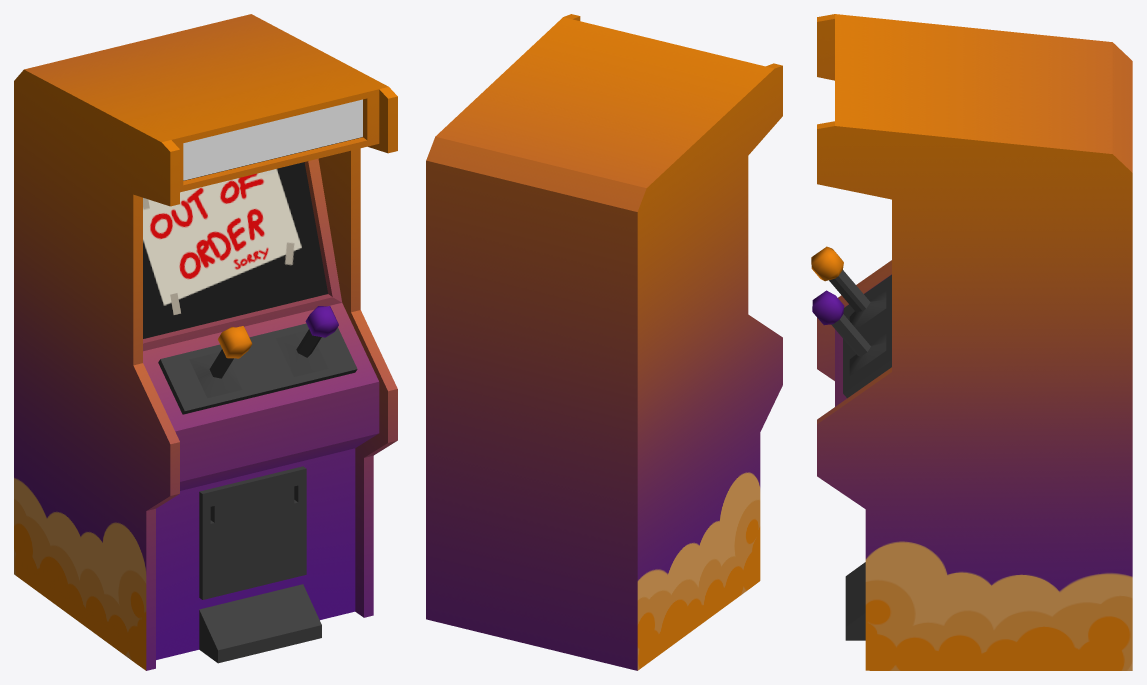
Rendered from MP_Ass2_Arcade2 2.fbx.
The picture shows the model from 3 angles, left to right: view 1: azimuth 30°, elevation 25°; view 2: azimuth 150°, elevation 25°; view 3: azimuth 270°, elevation 25°; orthographic projection. The views are drawn at different scales.
Parts seen in each view (by area): view 1: Arcade_Cabinet.001; view 2: Arcade_Cabinet.001; view 3: Arcade_Cabinet.001.
Boxes of the visible parts, x1,y1,x2,y2 form: Arcade_Cabinet.001: [14, 14, 397, 670]; Arcade_Cabinet.001: [426, 14, 782, 670]; Arcade_Cabinet.001: [811, 14, 1132, 670].
Size of the model in its own units: 219 by 496 by 265.
